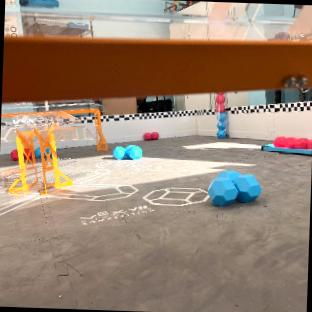Med_goal: (1, 109, 107, 192)
Parking - B: (262, 144, 312, 155)
V5_BLUE: (207, 171, 261, 205), (113, 146, 142, 159)
V5_RED: (273, 137, 312, 150), (216, 93, 224, 111), (11, 149, 18, 161), (151, 132, 158, 139)
